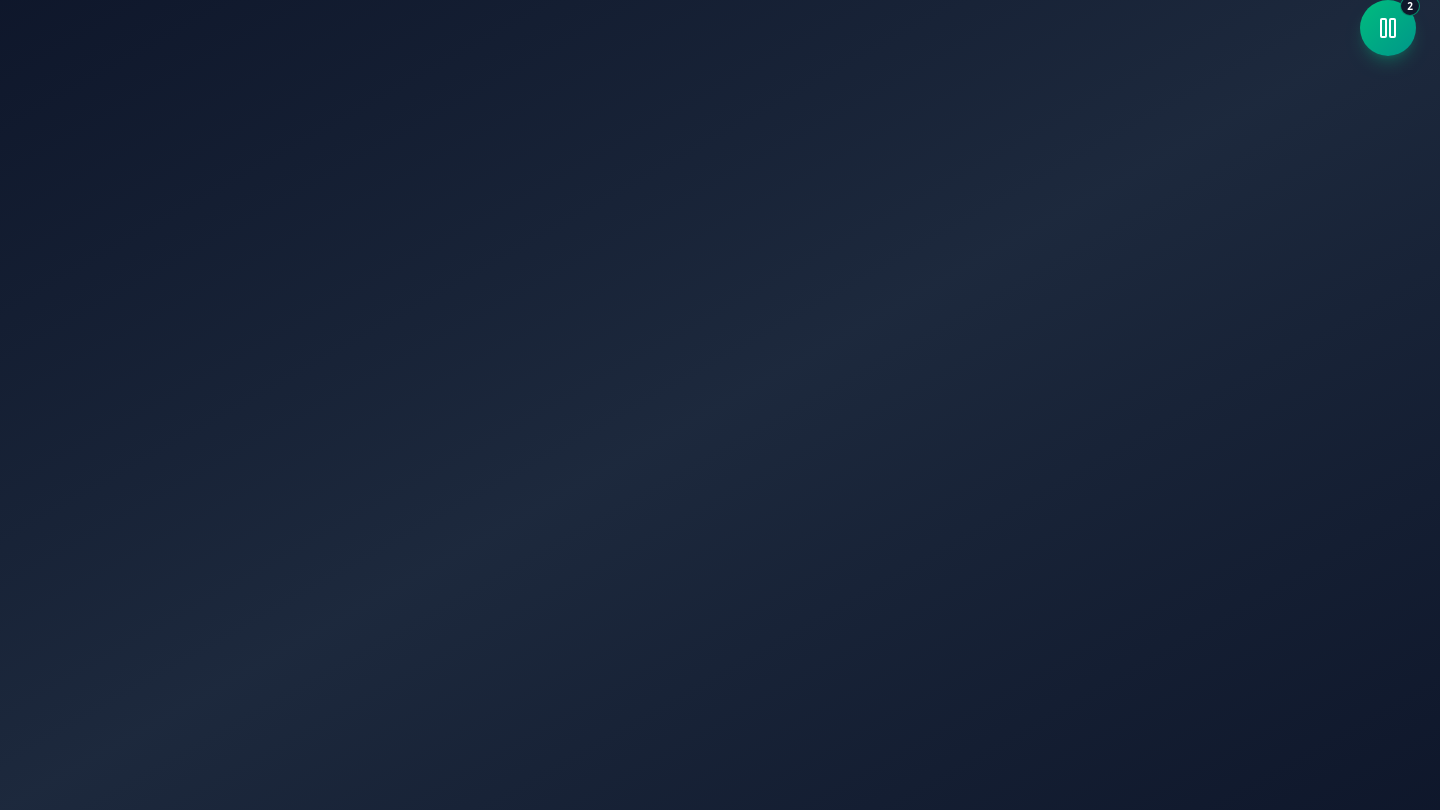
DownloadQueueButton › with only stopped downloads: a pause icon with the count, and a nudge to resume
This screenshot has width=1440, height=810.
Click the button named "Download queue: 2 stopped". click: (1388, 28)
box: [1360,0,1416,56]
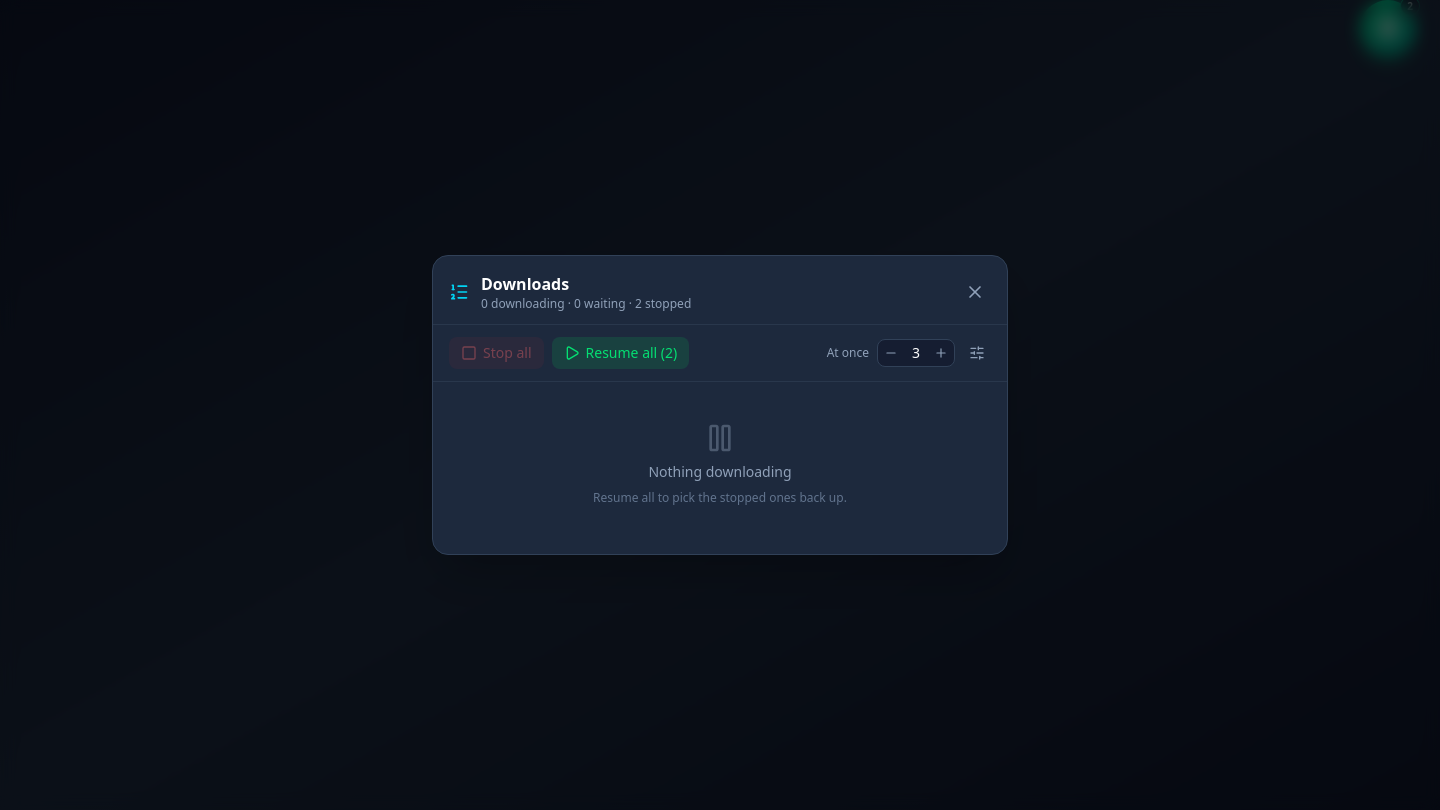
Now the text "Nothing downloading" is shown, box [648,462,792,482]
Now the text "Resume all to pick the stopped ones back up." is shown, box [593,490,847,506]
Now the button "Stop all" is disabled, box [449,337,544,369]
